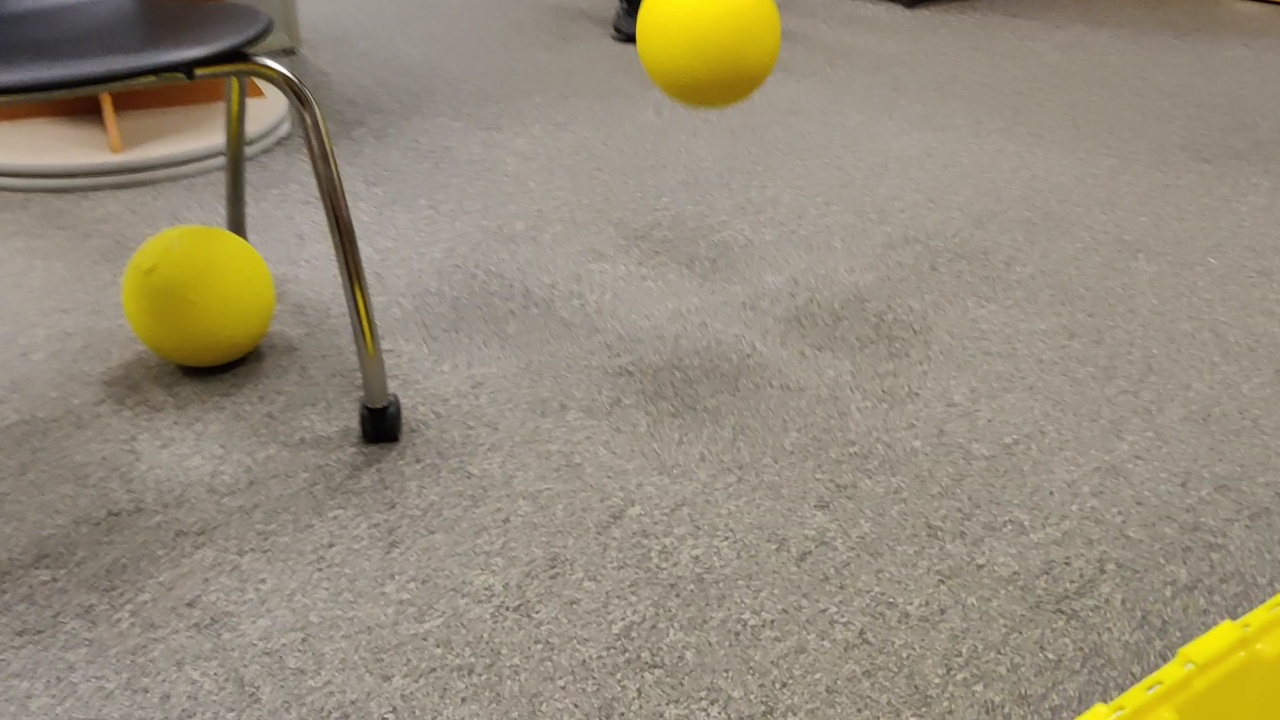Ball: (123, 225, 283, 372), (626, 1, 787, 109)
